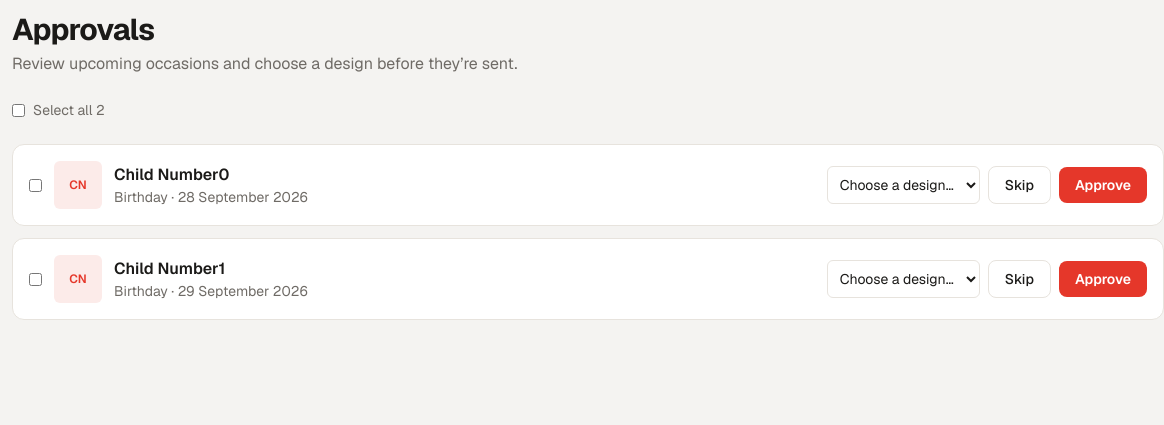
Test case: ApprovalsClient › what an approved auto-send card says about itself › stops naming a failure once that row has left the queue
The width and height of the screenshot is (1164, 425).
Click the checkbox labelled "Select all 2" at coordinates (18, 110), box [12,104,25,116]
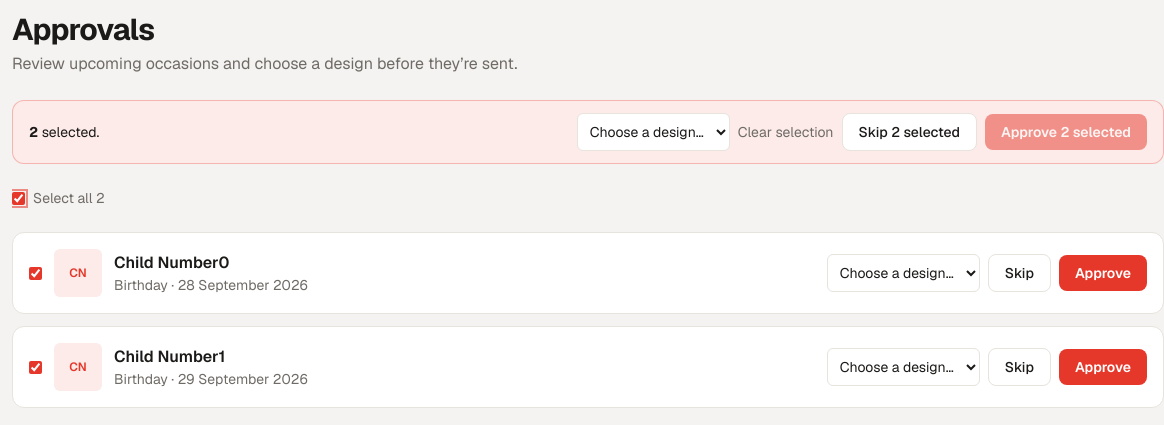
Select "Happy Birthday" in the dropdown named "Design to approve the selected cards with" at coordinates (653, 132), box [577,113,730,151]
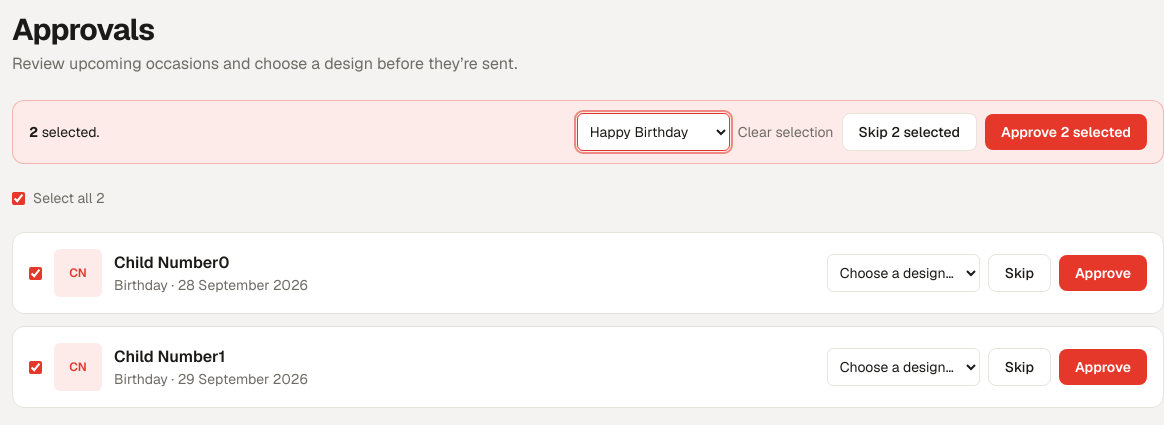
Click the button "Approve 2 selected" at coordinates (1066, 132), box [985,114,1147,150]
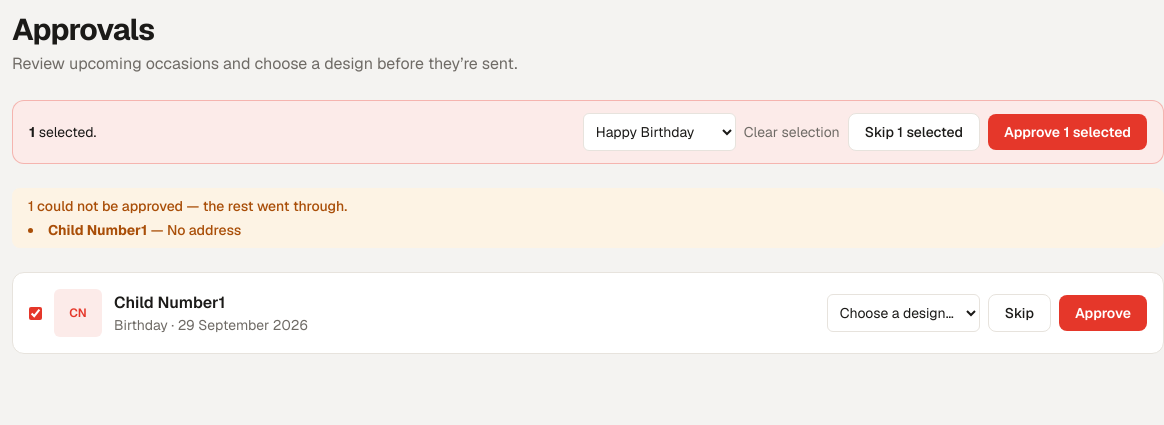
Result: the text "1 could not be approved — the rest went through." is shown at [28,197,347,215]
Click the button "Skip" at coordinates (1019, 313), box [988,294,1051,332]
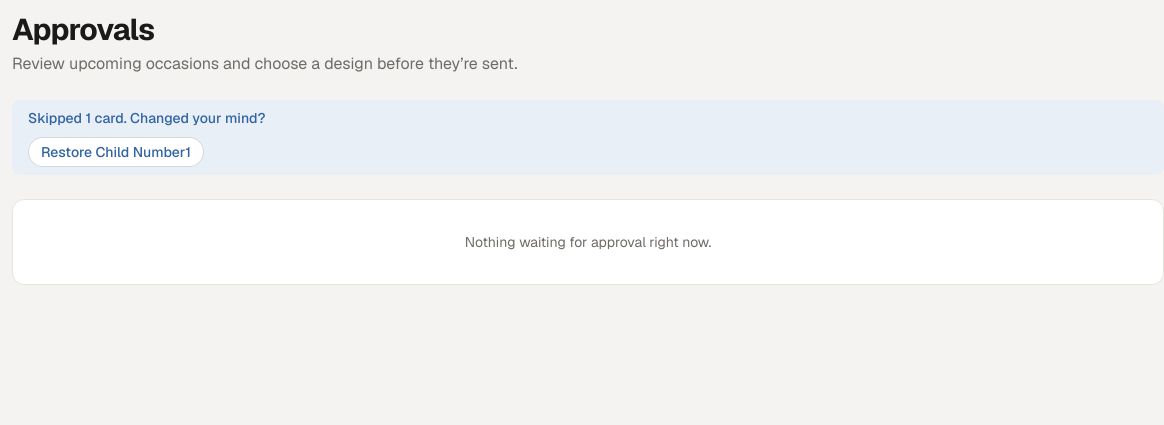
Result: the text "could not be approved" is gone
